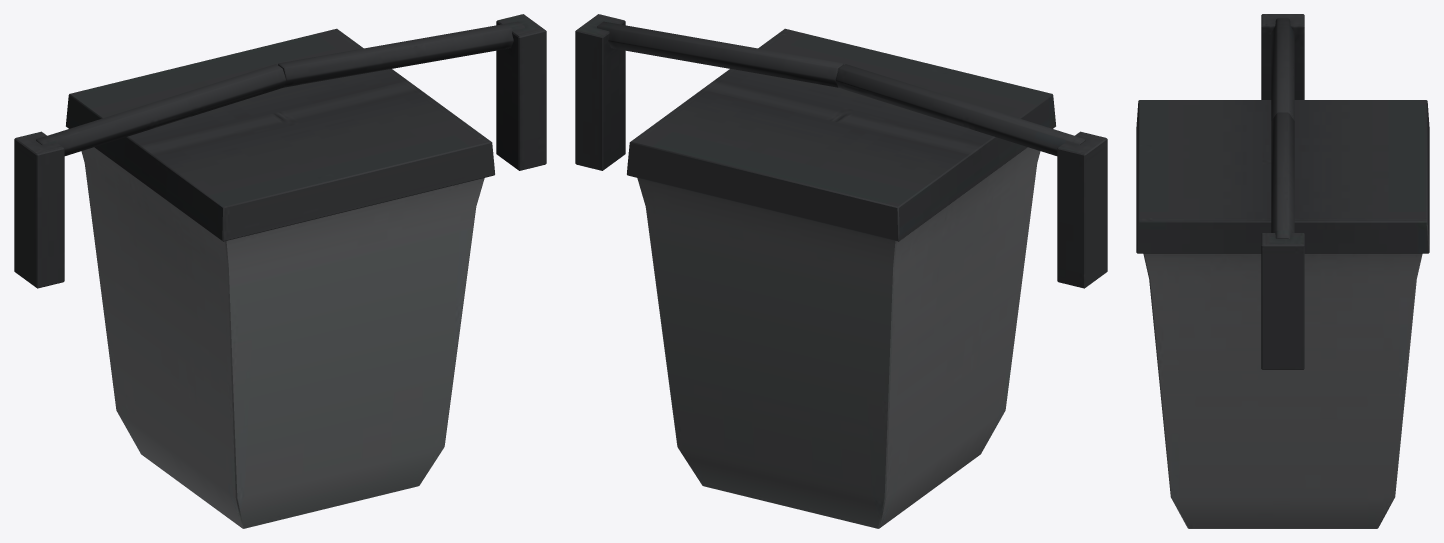
Rendered from IT_bucket.glb.
3 renders of one model, left to right at view 1: azimuth 30°, elevation 25°; view 2: azimuth 150°, elevation 25°; view 3: azimuth 270°, elevation 25°, orthographic. The views are drawn at different scales.
Visible parts, largest first — view 1: IT_bucket; view 2: IT_bucket; view 3: IT_bucket.
Boxes of the visible parts, x1,y1,x2,y2 form: IT_bucket: (14, 14, 546, 528); IT_bucket: (575, 14, 1107, 528); IT_bucket: (1136, 14, 1429, 528).
Size of the model in its own units: 0.635 by 0.482 by 0.3399.
Materials: 1 (1 with a texture image).
